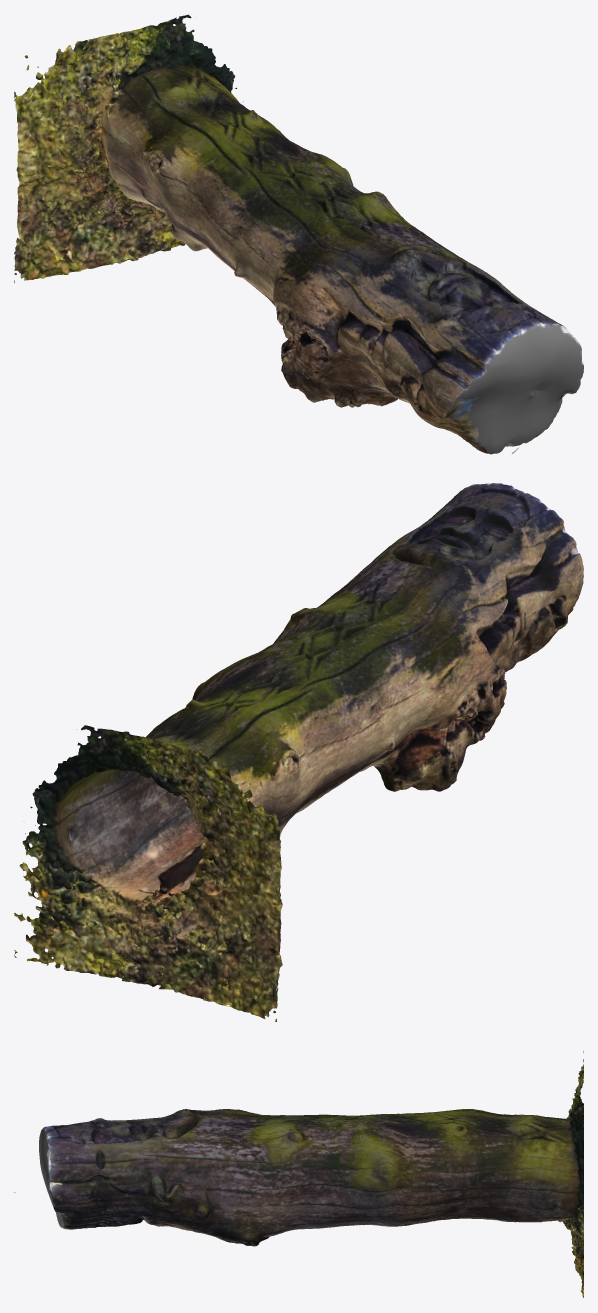
3 renders of one model, top to bottom at view 1: azimuth 30°, elevation 25°; view 2: azimuth 150°, elevation 25°; view 3: azimuth 270°, elevation 25°, orthographic. The views are drawn at different scales.
Visible parts, largest first — view 1: DefaultName; view 2: DefaultName; view 3: DefaultName.
Boxes of the visible parts, x1,y1,x2,y2 form: DefaultName: (14, 14, 583, 454); DefaultName: (14, 483, 583, 1021); DefaultName: (14, 1051, 583, 1297).
Bounding box in the file's own units: 13.6 × 12.36 × 38.06.
